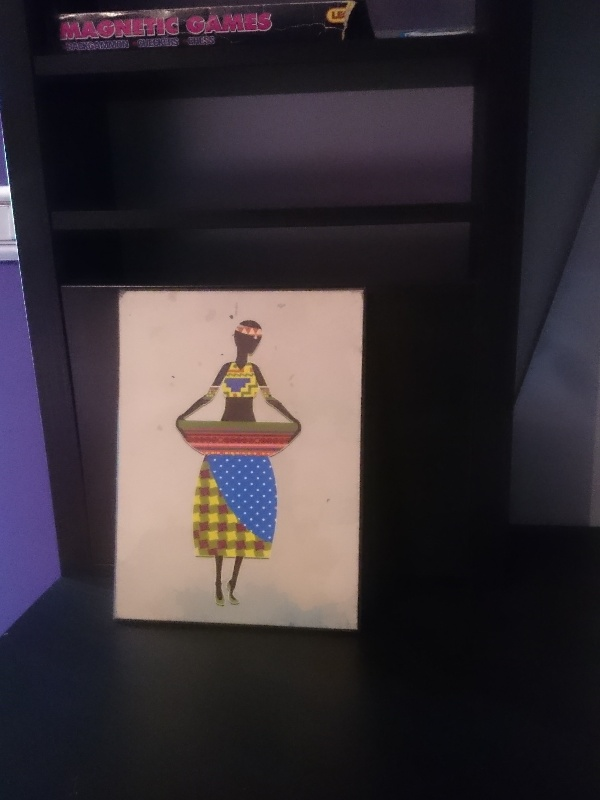my image: (118, 291, 362, 621)
